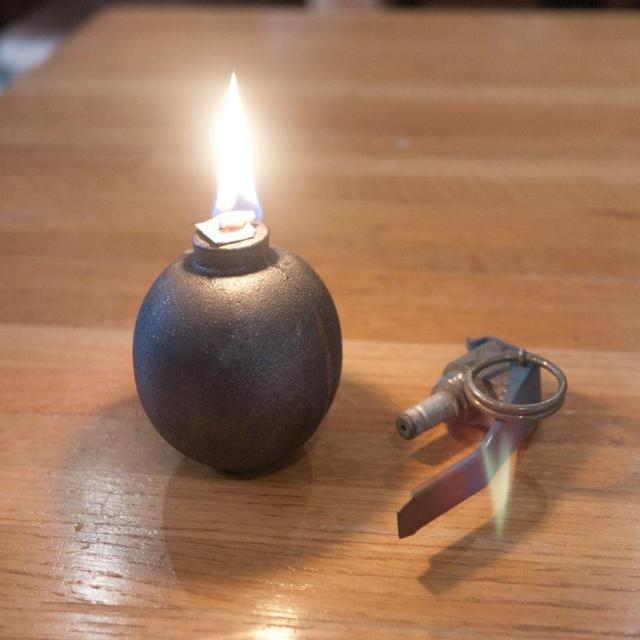grenade: (132, 206, 343, 482), (397, 338, 569, 540)
